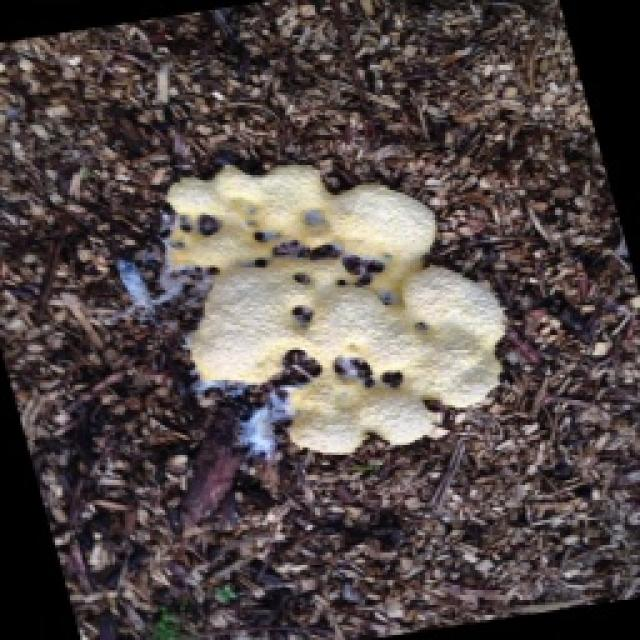Dog_vomit_slime_mold: (135, 114, 518, 492)
